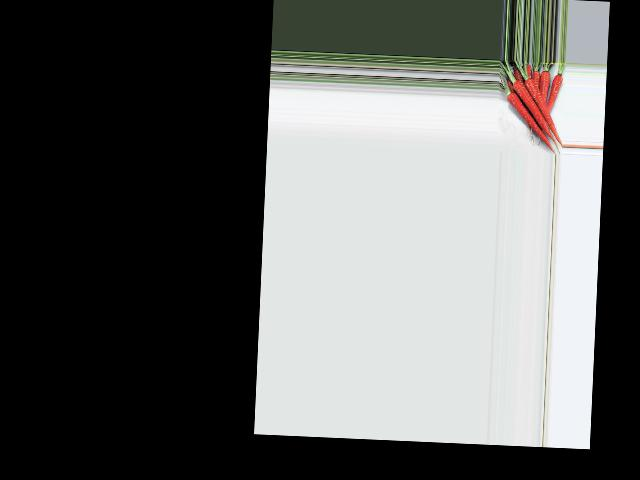carrot: (544, 73, 564, 114)
